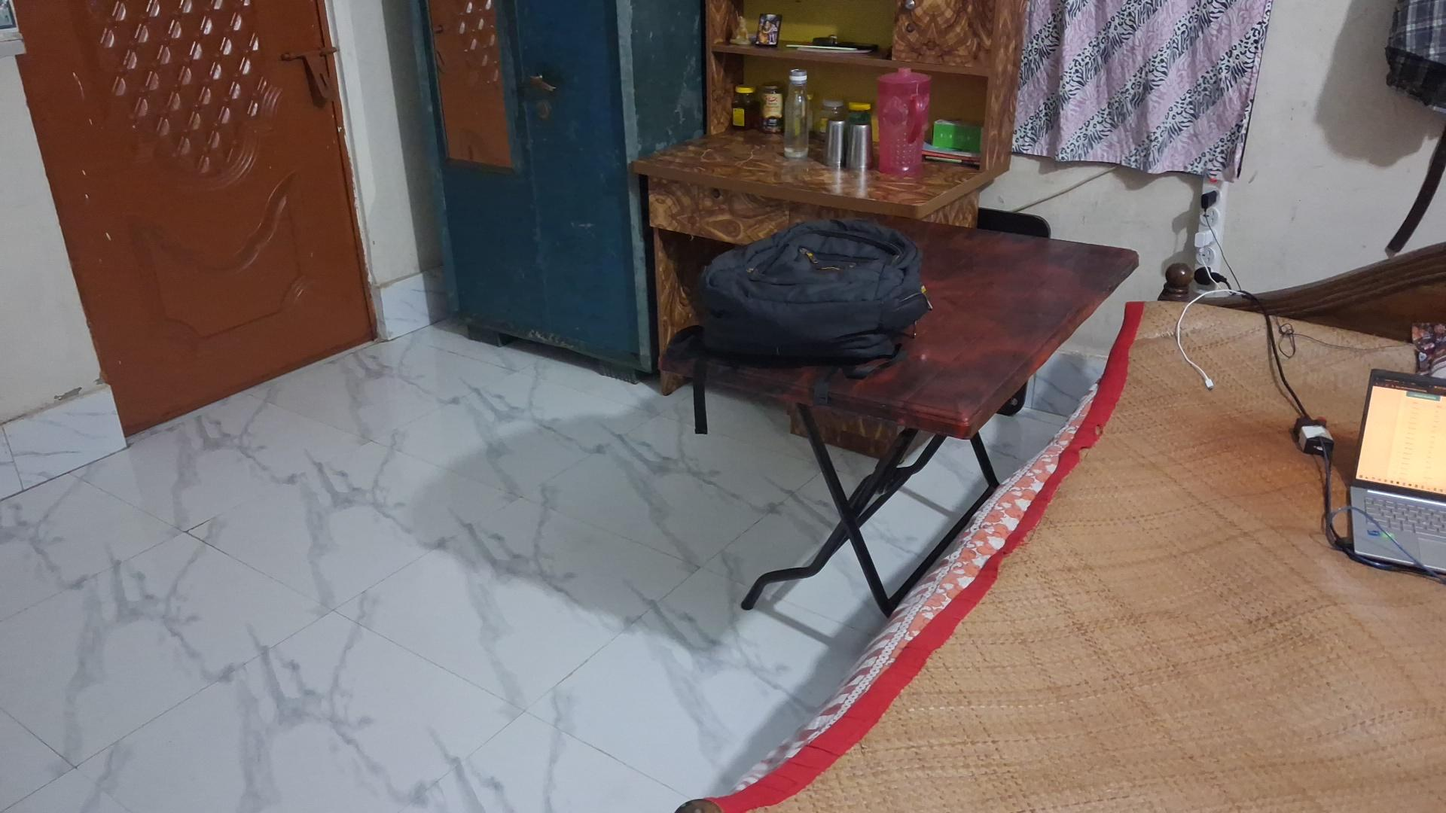Bag: (684, 211, 936, 375)
Bottle: (783, 69, 810, 160)
Box: (935, 118, 985, 155)
Door: (21, 0, 403, 384)
Glass: (823, 119, 847, 169), (847, 126, 871, 173)
Jar: (730, 83, 758, 129), (760, 84, 781, 135)
Jug: (873, 67, 931, 174)
Laptop: (1359, 356, 1446, 573)
Table: (651, 203, 1140, 598)
